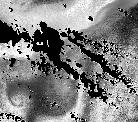CE: (8, 90, 30, 109)
